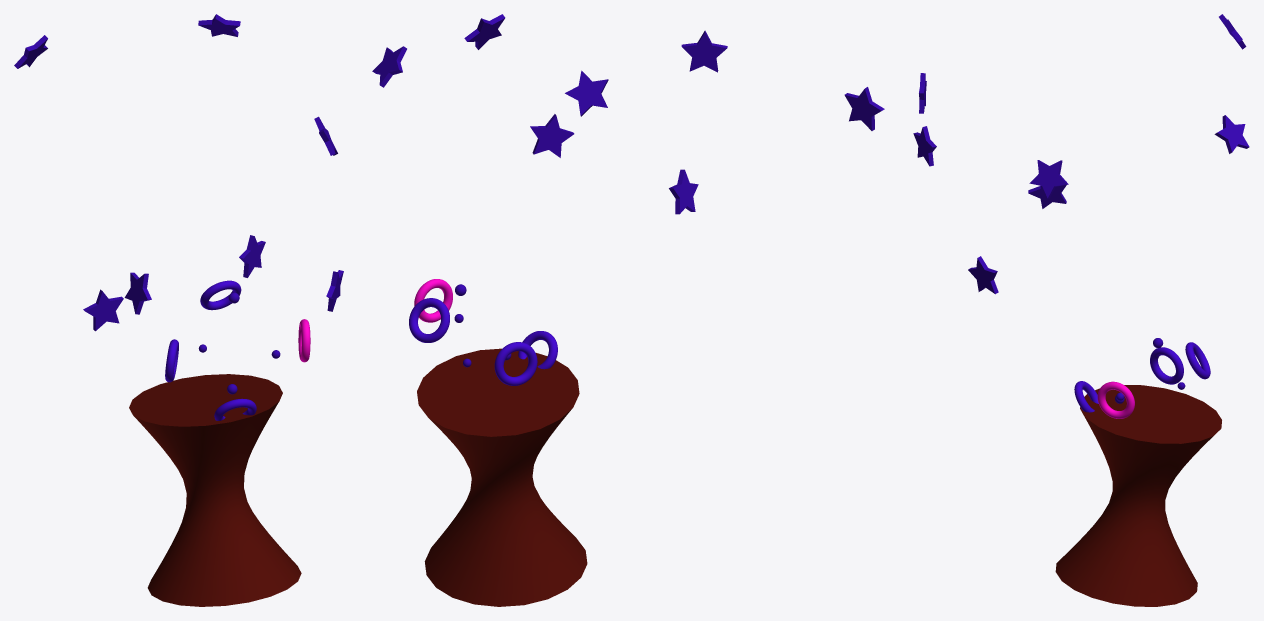
File: row.glb
3 renders of one model, left to right at view 1: azimuth 30°, elevation 25°; view 2: azimuth 150°, elevation 25°; view 3: azimuth 270°, elevation 25°, orthographic. The views are drawn at different scales.
Visible parts, largest first — view 1: ConicSection, Star (×5), 008_Torus_299, 008_Torus_298, 008_Torus_297, 008_Torus_300; view 2: ConicSection, Star (×7), 008_Torus_300, 008_Torus_299, 008_Torus_297; view 3: ConicSection, Star (×5), 008_Torus_297, 008_Torus_300, 008_Torus_299, 008_Torus_298.
Boxes of the visible parts, bbox=[...] form: ConicSection: bbox=[129, 374, 301, 606]; Star (×5): bbox=[14, 14, 265, 331]; 008_Torus_299: bbox=[200, 280, 241, 310]; 008_Torus_298: bbox=[214, 398, 256, 420]; 008_Torus_297: bbox=[298, 319, 310, 362]; 008_Torus_300: bbox=[165, 339, 178, 382]; ConicSection: bbox=[417, 348, 587, 606]; Star (×7): bbox=[372, 14, 884, 214]; 008_Torus_300: bbox=[494, 342, 537, 385]; 008_Torus_299: bbox=[409, 298, 449, 342]; 008_Torus_297: bbox=[414, 279, 452, 322]; ConicSection: bbox=[1055, 385, 1221, 606]; Star (×5): bbox=[913, 115, 1249, 294]; 008_Torus_297: bbox=[1097, 381, 1134, 418]; 008_Torus_300: bbox=[1150, 347, 1183, 384]; 008_Torus_299: bbox=[1185, 342, 1210, 379]; 008_Torus_298: bbox=[1074, 381, 1098, 412].
Size of the model in its own units: 7.79 by 12.19 by 7.28.
